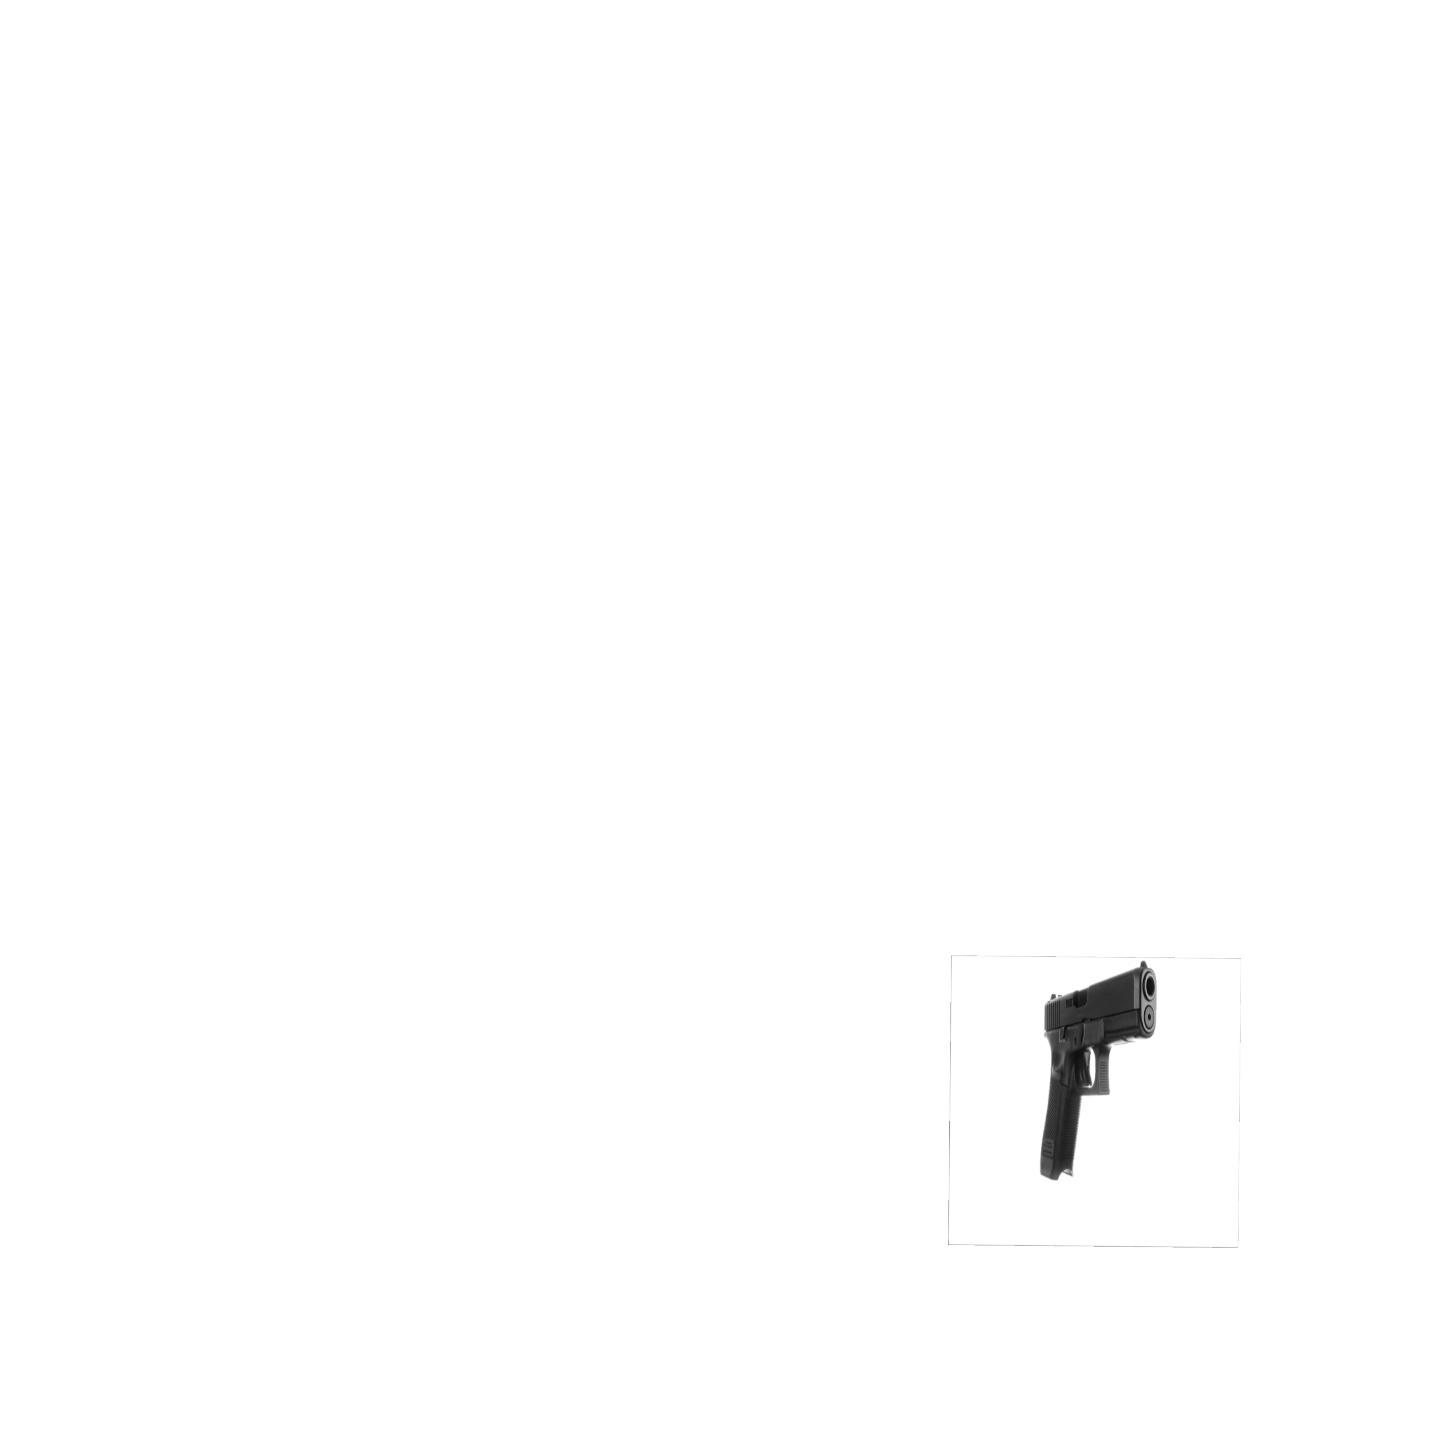gun: (1036, 965, 1158, 1181)
